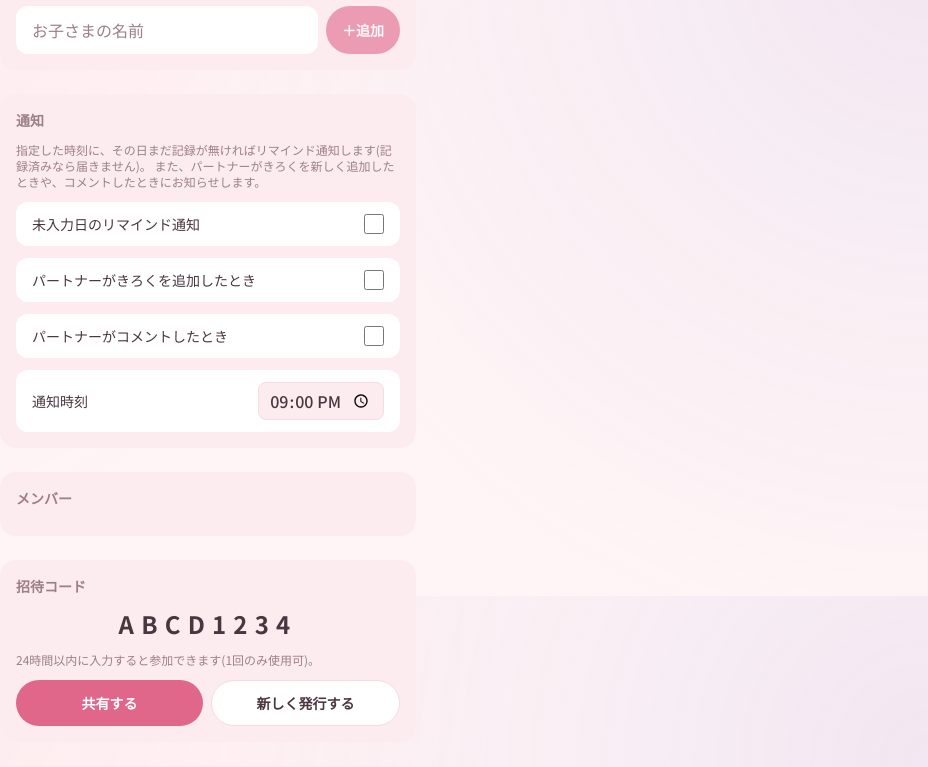
it: GroupPage: 招待コードの共有 › share が無ければクリップボードへコピーし、その旨を短く出す
(page scrolled)
Click the button "共有する": (110, 703) [16,680,203,726]
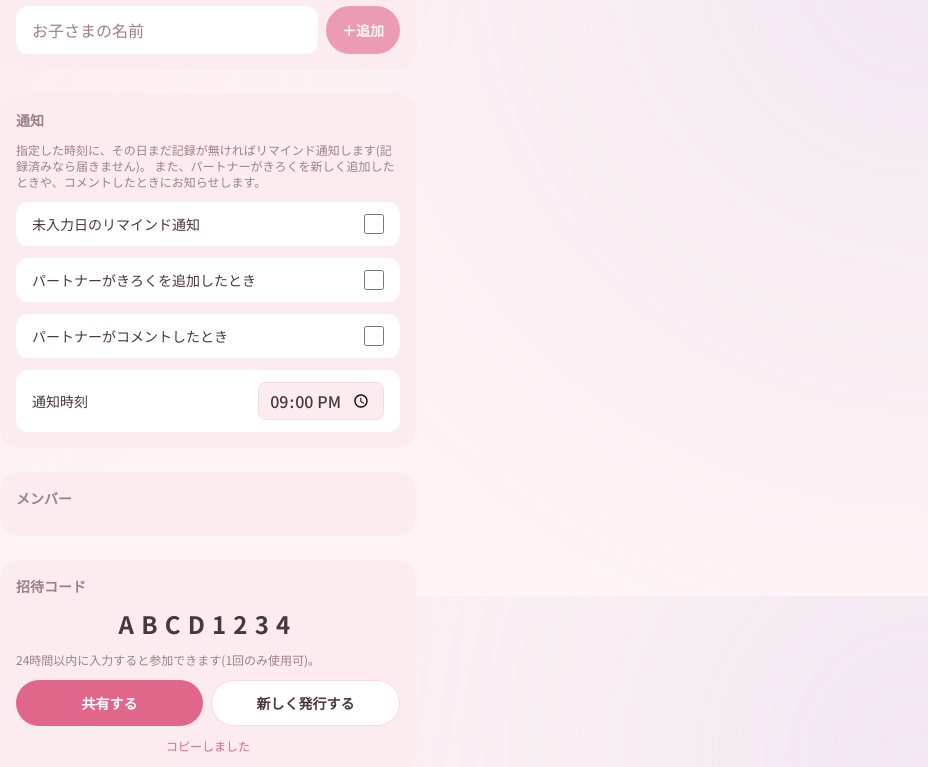
expect the text "コピーしました" is shown: met, box [166,737,250,754]
